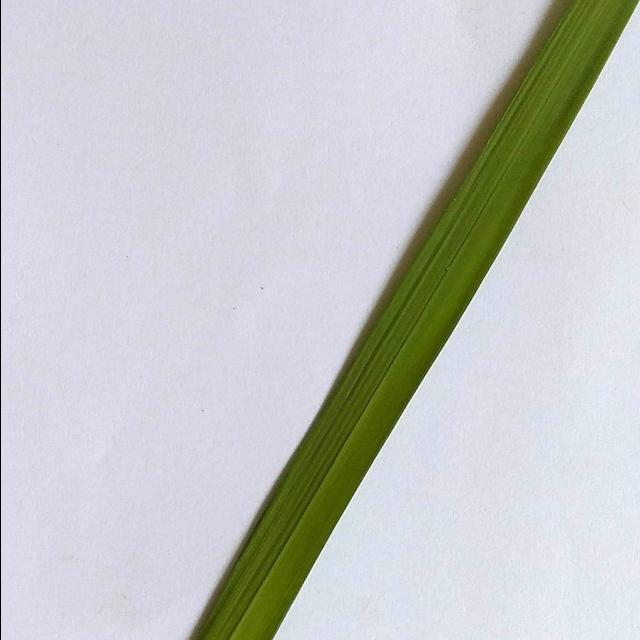healthy: (147, 0, 640, 640)
